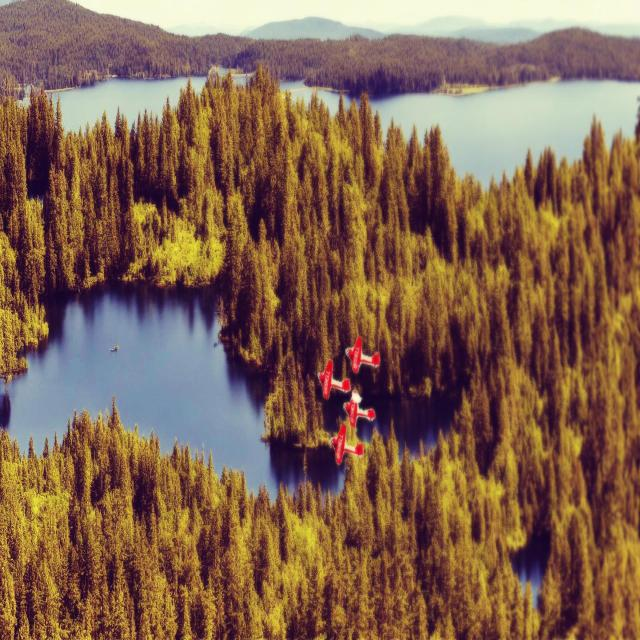airplane: (330, 423, 363, 465), (317, 358, 350, 399), (345, 335, 380, 373), (342, 389, 376, 427)
